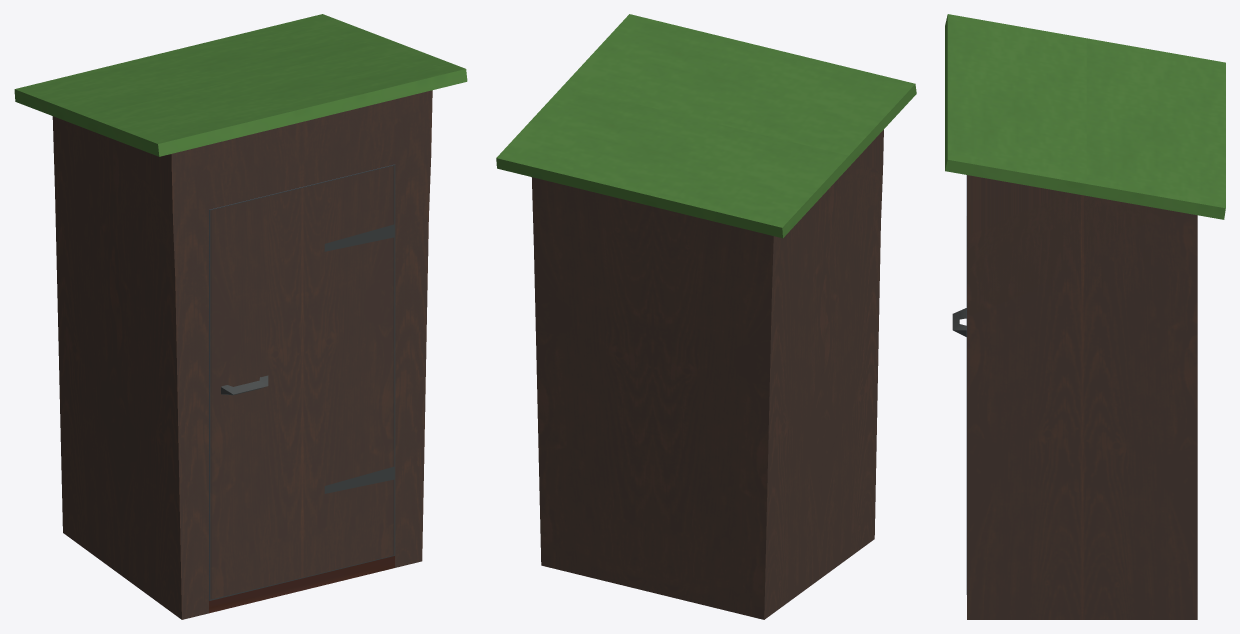
Rendered from OutdoorBathroom.glb.
The picture shows the model from 3 angles, left to right: view 1: azimuth 30°, elevation 25°; view 2: azimuth 150°, elevation 25°; view 3: azimuth 270°, elevation 25°; orthographic projection. The views are drawn at different scales.
Parts seen in each view (by area): view 1: OutdoorBathroom, OutdoorBathroom_Door, OutdoorBathroom_Hinge, OutdoorBathroom_Hinge1; view 2: OutdoorBathroom; view 3: OutdoorBathroom, OutdoorBathroom_Door.
Part boxes in pixels (x1,y1,x2,y2): OutdoorBathroom: [14, 14, 467, 619]; OutdoorBathroom_Door: [209, 164, 395, 600]; OutdoorBathroom_Hinge: [324, 224, 394, 251]; OutdoorBathroom_Hinge1: [324, 466, 394, 493]; OutdoorBathroom: [496, 14, 916, 619]; OutdoorBathroom: [945, 14, 1225, 619]; OutdoorBathroom_Door: [966, 175, 966, 594].
Size of what is drawn, in the model's own units: 1.76 by 2.68 by 1.43.
Materials: 3 (3 with a texture image).
